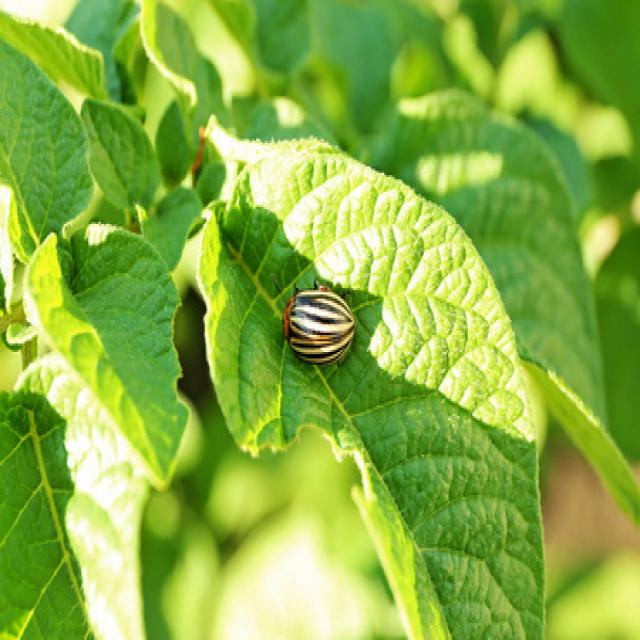ShuCaiHuaBanChong-Grown-: (264, 275, 386, 401)
